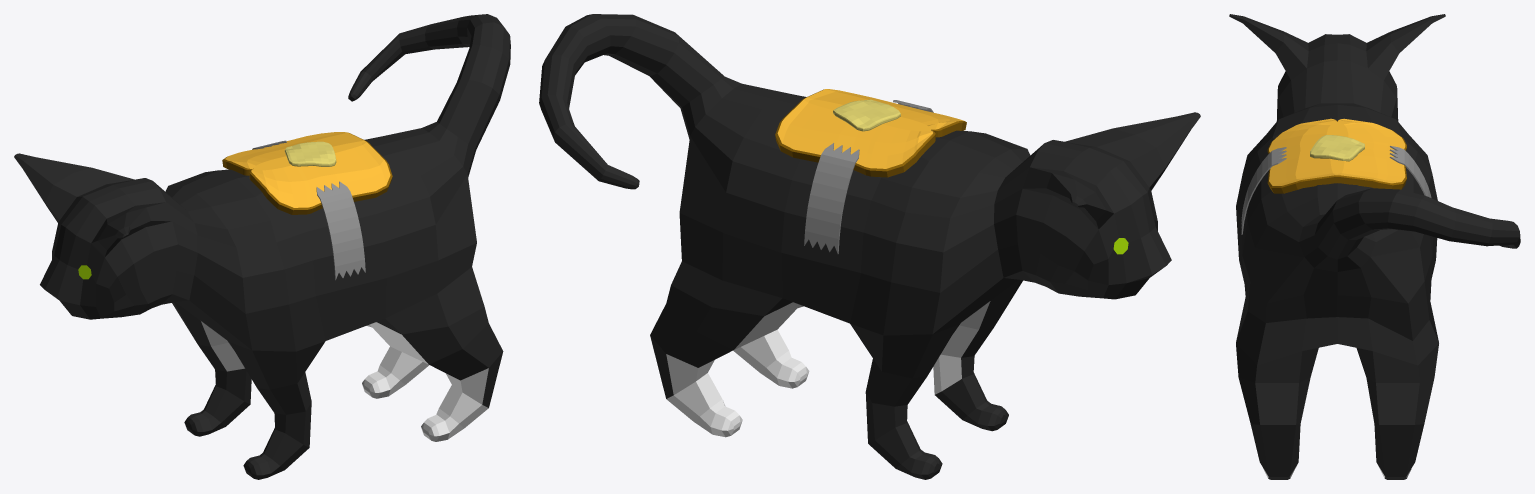
File: Cat.fbx
3 renders of one model, left to right at view 1: azimuth 30°, elevation 25°; view 2: azimuth 150°, elevation 25°; view 3: azimuth 270°, elevation 25°, orthographic. The views are drawn at different scales.
Visible parts, largest first — view 1: Cat, Cat_Bread; view 2: Cat, Cat_Bread; view 3: Cat, Cat_Bread.
Boxes of the visible parts, left/top/right/bottom form: Cat: left=14, top=14, right=510, bottom=479; Cat_Bread: left=222, top=132, right=392, bottom=280; Cat: left=539, top=14, right=1200, bottom=479; Cat_Bread: left=775, top=89, right=966, bottom=253; Cat: left=1229, top=14, right=1520, bottom=479; Cat_Bread: left=1241, top=118, right=1431, bottom=234.
Size of the model in its own units: 72.52 by 47.94 by 37.3.
